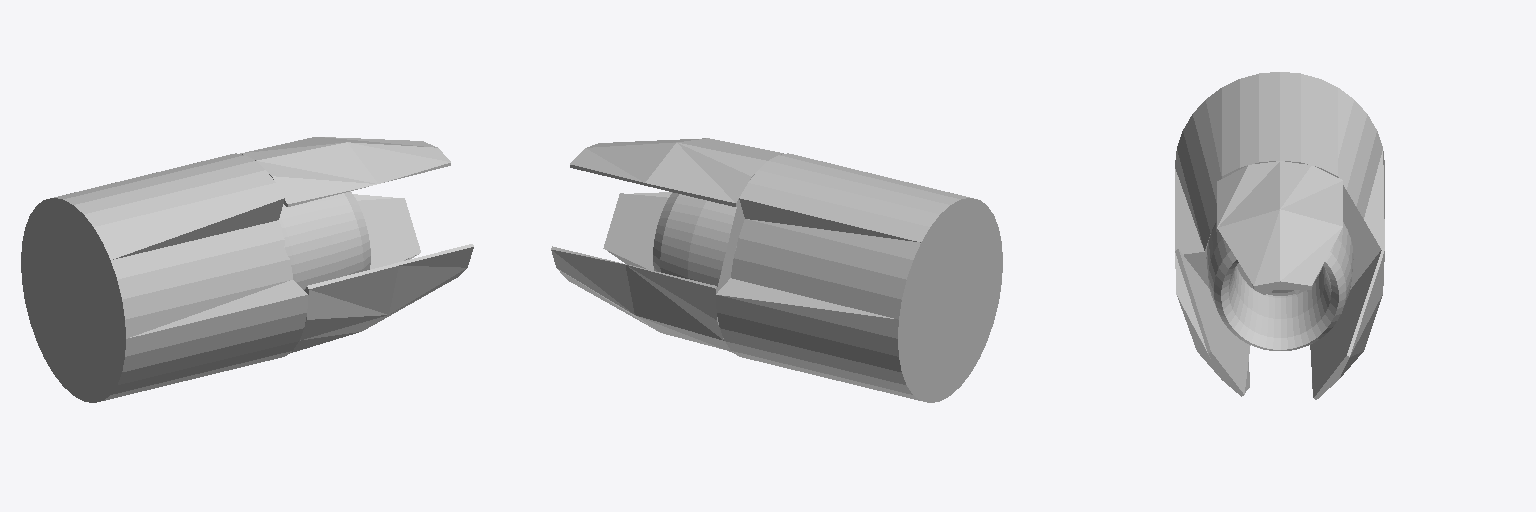
Rendered from smallEngine.obj.
3 renders of one model, left to right at view 1: azimuth 30°, elevation 25°; view 2: azimuth 150°, elevation 25°; view 3: azimuth 270°, elevation 25°, orthographic.
Parts seen in each view (by area): view 1: Cube_Cube.001; view 2: Cube_Cube.001; view 3: Cube_Cube.001.
Part boxes in pixels (x1,y1,x2,y2): Cube_Cube.001: (21,137,473,402); Cube_Cube.001: (551,138,1002,402); Cube_Cube.001: (1175,72,1384,399).
Bounding box in the file's own units: 2 × 1 × 1.